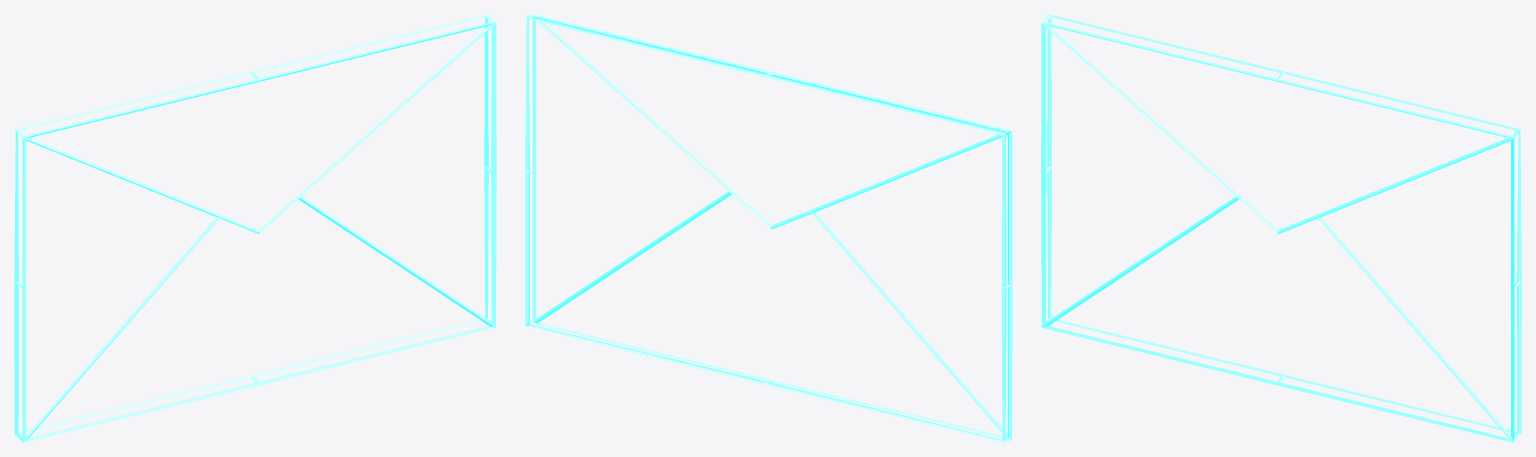
File: message.glb
3 views of the same model, side by side, from view 1: azimuth 30°, elevation 25°; view 2: azimuth 150°, elevation 25°; view 3: azimuth 330°, elevation 25° (orthographic).
Parts seen in each view (by area): view 1: Plane; view 2: Plane; view 3: Plane.
Part boxes in pixels (box(x1,y1,x2,y2)): Plane: box(14, 14, 496, 442); Plane: box(525, 14, 1012, 442); Plane: box(1041, 14, 1521, 442).
Size of what is drawn, in the model's own units: 3.55 by 2.21 by 0.1104.
